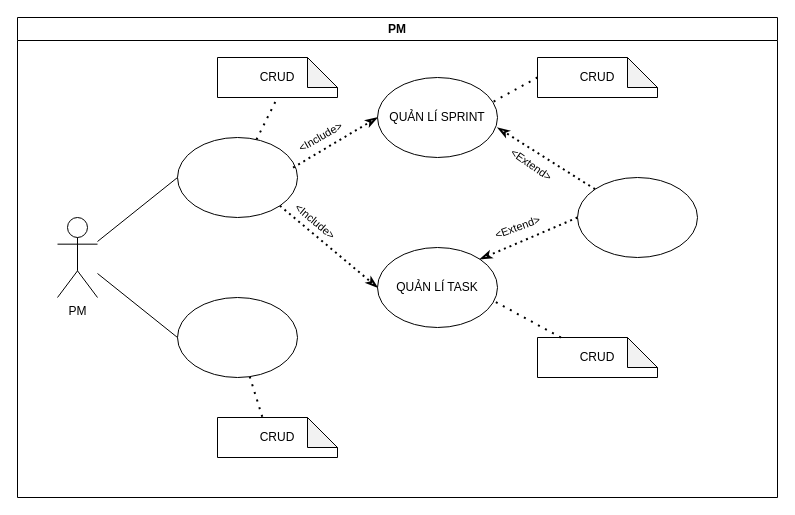
Some shapes in this 795 by 515 pixel diagram are drawn without their labels. Each missing label, with the centre of its shape:
QUẢN LÍ DỰ ÁN: (237,177)
QUẢN LÝ TEAM: (237,337)
THỐNG KÊ, BÁO CÁO: (637,217)
